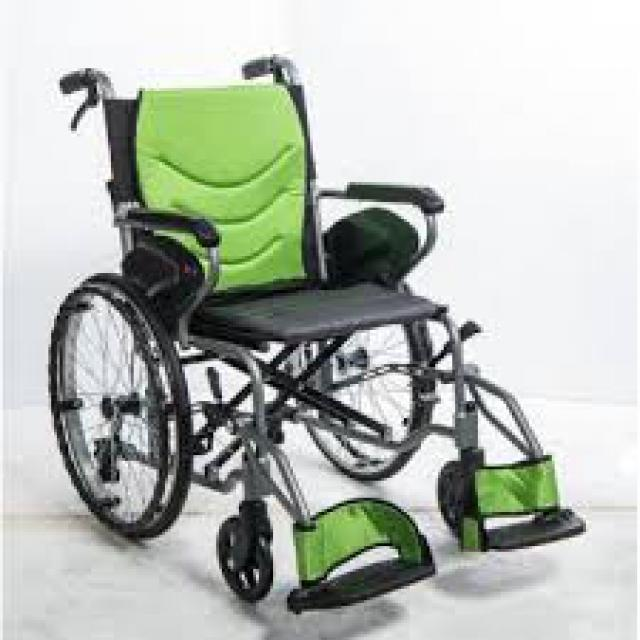wheelchair: (43, 53, 606, 614)
